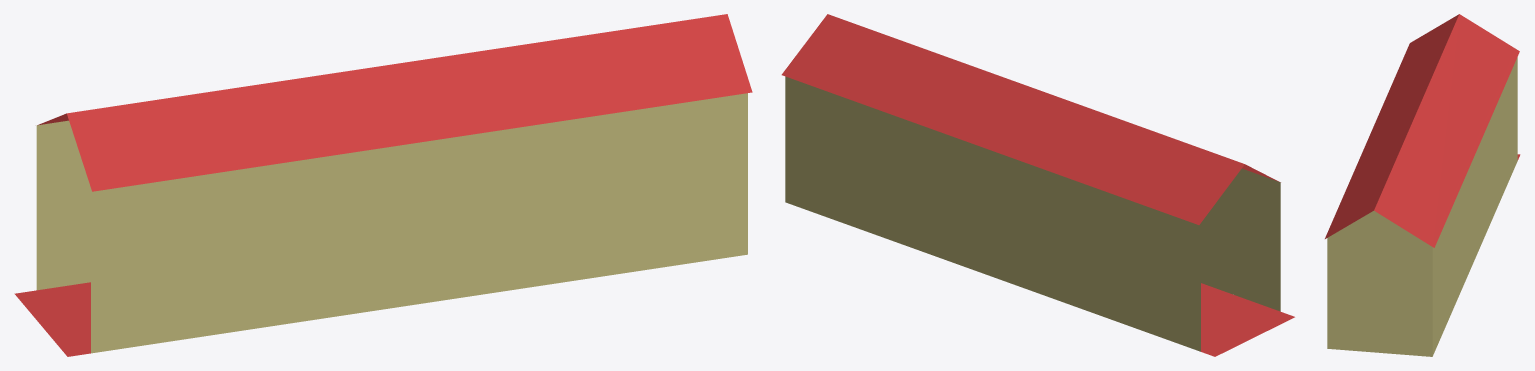
The picture shows the model from 3 angles, left to right: view 1: azimuth 30°, elevation 25°; view 2: azimuth 150°, elevation 25°; view 3: azimuth 270°, elevation 25°; orthographic projection. The views are drawn at different scales.
Visible parts, largest first — view 1: group_5, group_3, group_6; view 2: group_5, group_3, group_6, group_4; view 3: group_3, group_5, group_4.
Boxes of the visible parts, x1,y1,x2,y2 form: group_5: (36,93,747,353); group_3: (37,14,752,191); group_6: (14,282,90,356); group_5: (785,76,1280,351); group_3: (781,14,1280,224); group_6: (1201,283,1294,356); group_4: (783,74,1198,224); group_3: (1325,14,1519,247); group_5: (1327,57,1517,356); group_4: (1328,52,1517,246).
Size of the model in its own units: 53.19 by 20.81 by 16.73.
